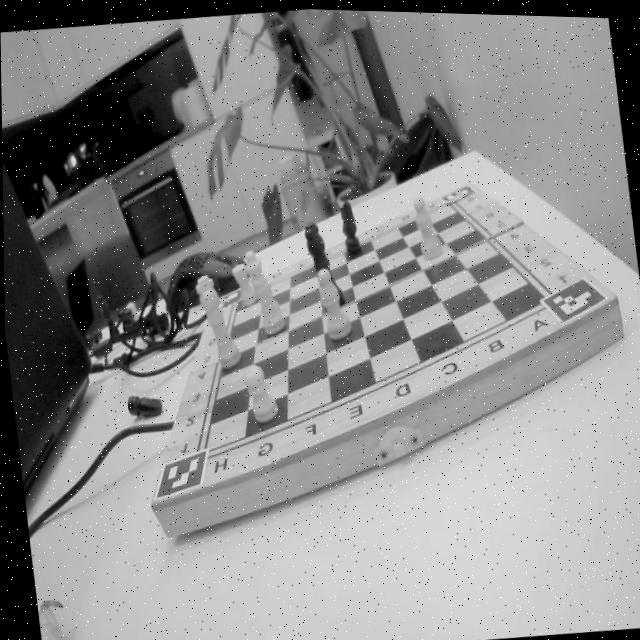chessboard: (200, 198, 539, 453)
